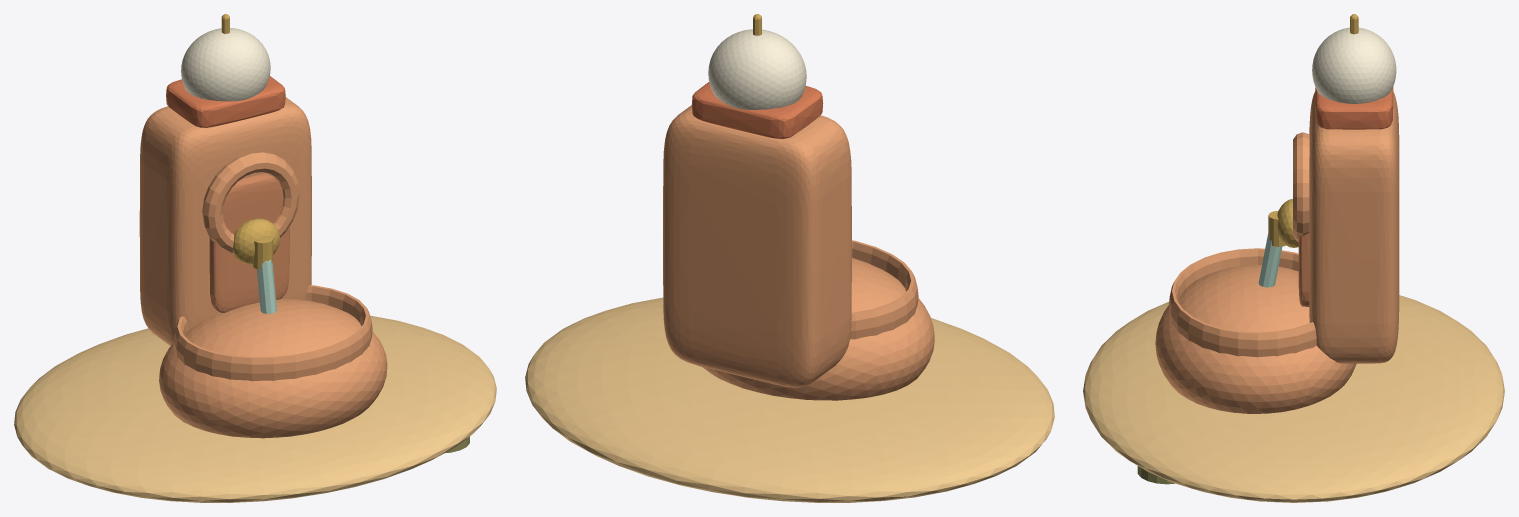
The model's file is public_fountain.glb.
3 views of the same model, side by side, from view 1: azimuth 30°, elevation 25°; view 2: azimuth 150°, elevation 25°; view 3: azimuth 270°, elevation 25° (orthographic). The views are drawn at different scales.
Visible parts, largest first — view 1: Ground, Tower, Basin, Basin_Rim, Niche, Dome, Niche_Arch, Cap_Rim, Spout_Boss, Stream, Spout; view 2: Ground, Tower, Basin, Dome, Cap_Rim, Basin_Rim; view 3: Ground, Tower, Basin, Basin_Rim, Dome, Cap_Rim, Niche_Arch, Niche, Stream, Spout_Boss.
Part boxes in pixels (x1=…): Ground: x1=14, y1=315, x2=496, y2=502; Tower: x1=139, y1=97, x2=311, y2=345; Basin: x1=159, y1=298, x2=387, y2=438; Basin_Rim: x1=174, y1=285, x2=372, y2=381; Niche: x1=209, y1=173, x2=289, y2=312; Dome: x1=181, y1=28, x2=270, y2=101; Niche_Arch: x1=202, y1=152, x2=299, y2=252; Cap_Rim: x1=166, y1=76, x2=285, y2=127; Spout_Boss: x1=232, y1=218, x2=279, y2=264; Stream: x1=257, y1=260, x2=276, y2=313; Spout: x1=252, y1=236, x2=273, y2=269; Ground: x1=525, y1=297, x2=1054, y2=502; Tower: x1=663, y1=105, x2=851, y2=387; Basin: x1=702, y1=258, x2=934, y2=400; Dome: x1=708, y1=29, x2=806, y2=109; Cap_Rim: x1=691, y1=82, x2=823, y2=138; Basin_Rim: x1=850, y1=240, x2=918, y2=339; Ground: x1=1083, y1=295, x2=1504, y2=502; Tower: x1=1309, y1=91, x2=1399, y2=363; Basin: x1=1155, y1=265, x2=1356, y2=413; Basin_Rim: x1=1168, y1=248, x2=1316, y2=357; Dome: x1=1312, y1=27, x2=1396, y2=103; Cap_Rim: x1=1315, y1=87, x2=1393, y2=129; Niche_Arch: x1=1293, y1=132, x2=1309, y2=241; Niche: x1=1298, y1=233, x2=1309, y2=306; Stream: x1=1258, y1=234, x2=1282, y2=287; Spout_Boss: x1=1277, y1=199, x2=1298, y2=247.
Size of the model in its own units: 1.51 by 1.32 by 1.25.
